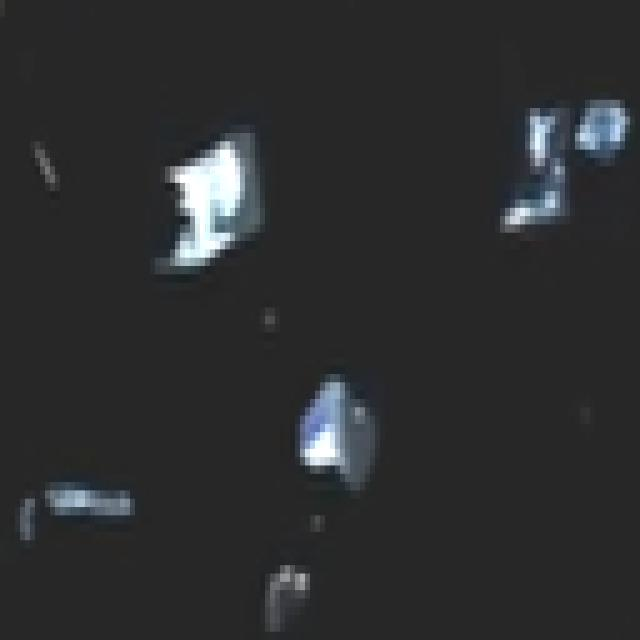medium_debris: (156, 132, 270, 272), (294, 378, 381, 494), (491, 165, 572, 232), (569, 92, 633, 174), (43, 482, 141, 530), (254, 565, 316, 634), (517, 110, 565, 169), (9, 495, 41, 550)
small_debris: (20, 142, 69, 193), (297, 511, 333, 545), (568, 402, 598, 438), (251, 307, 281, 337)
